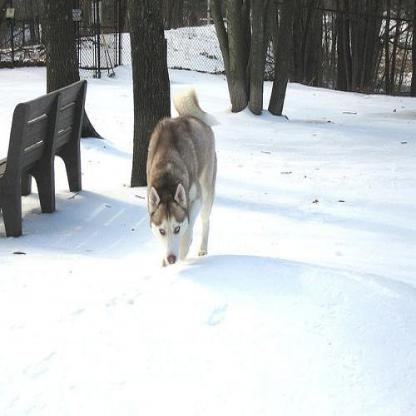Siberian_husky: (146, 89, 216, 267)
